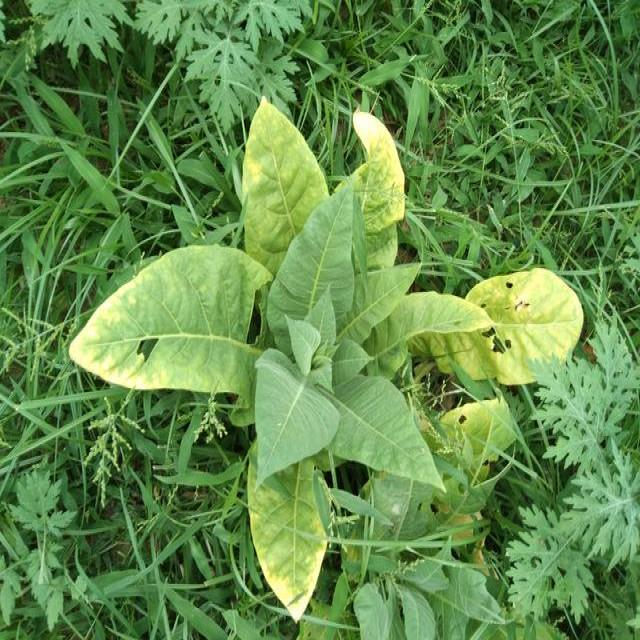crop: (64, 97, 492, 626)
